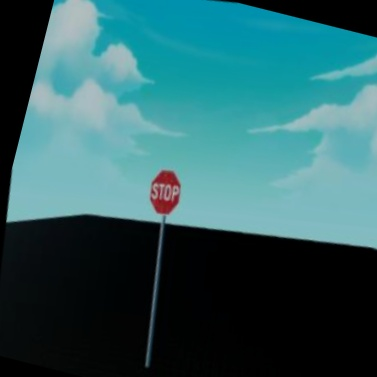STOP: (142, 164, 190, 222)
